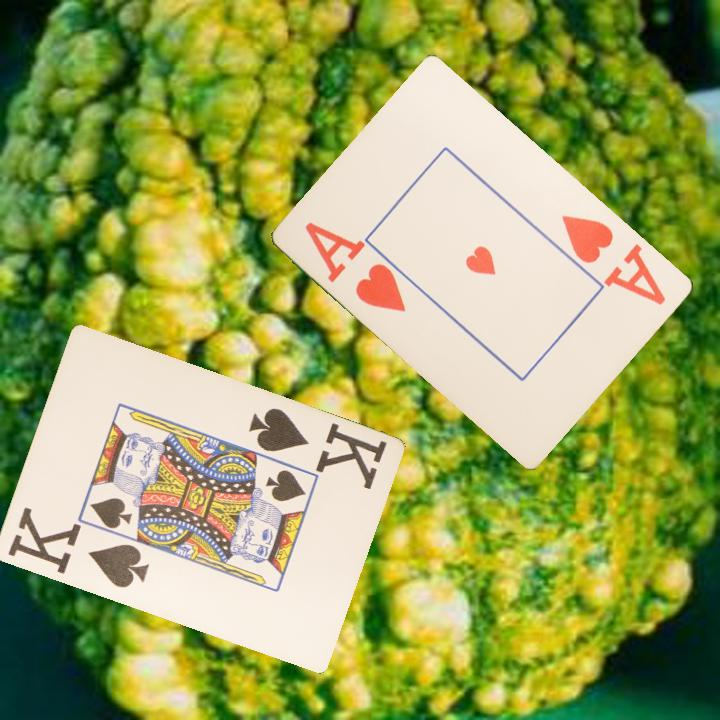Ah: (558, 211, 670, 308), (301, 218, 410, 315)
Ks: (3, 504, 151, 592), (244, 404, 390, 492)
